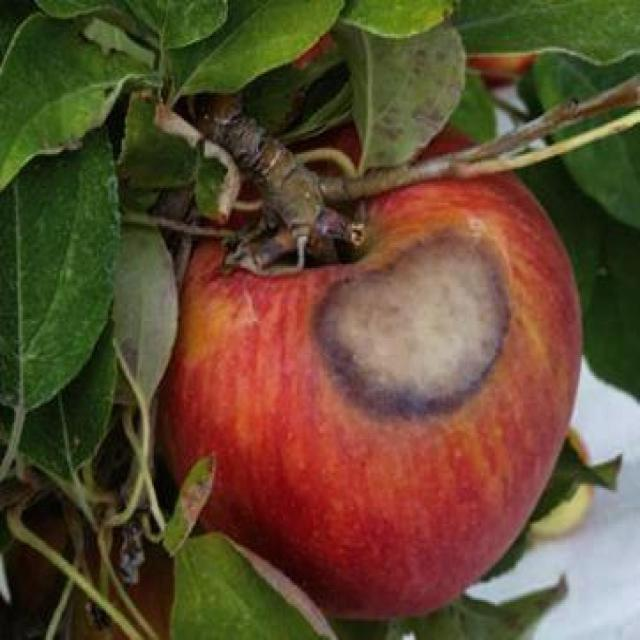Sunscald Fruit: (210, 152, 354, 286)
